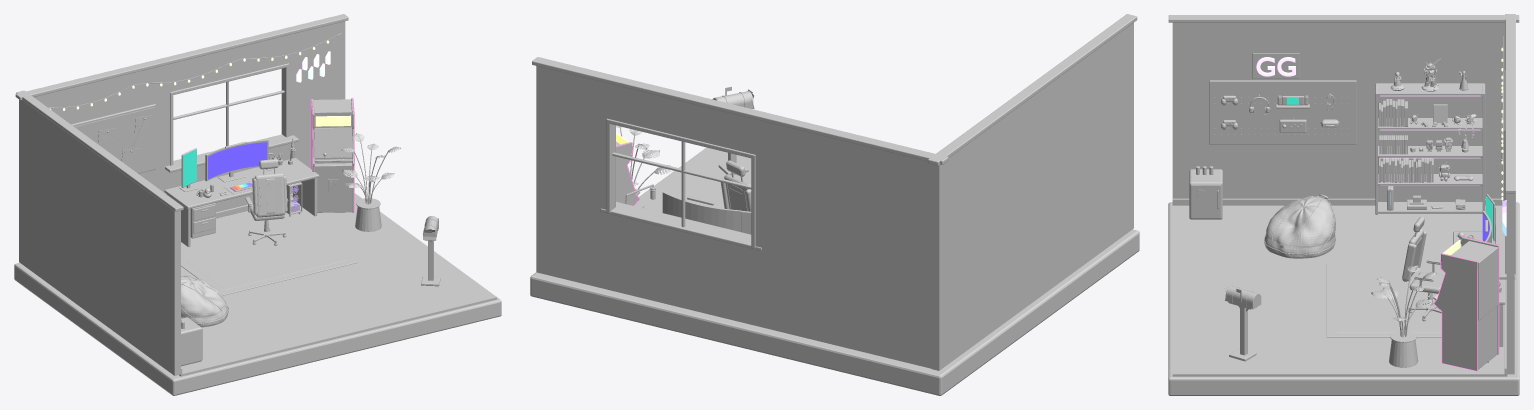
Rendered from room.glb.
3 renders of one model, left to right at view 1: azimuth 30°, elevation 25°; view 2: azimuth 150°, elevation 25°; view 3: azimuth 270°, elevation 25°, orthographic. The views are drawn at different scales.
Parts seen in each view (by area): view 1: Room_Static, Hot_Arcade, Hot_Corkboard, Hot_Chair, Screen, Hot_Monitor, Hot_Fridge, Hot_Mailbox, Screen2; view 2: Room_Static, Hot_Monitor, Hot_Chair, Hot_Arcade, Hot_Mailbox; view 3: Room_Static, Hot_Shelf, Hot_Pegboard, Hot_Arcade, Hot_Fridge, Hot_Chair, Hot_Mailbox, Neon_Sign, Hot_Corkboard, Arcade_GlowTrimR.
Boxes of the visible parts, left/top/right/bottom form: Room_Static: left=14, top=14, right=501, bottom=395; Hot_Arcade: left=311, top=98, right=354, bottom=212; Hot_Corkboard: left=71, top=104, right=155, bottom=173; Hot_Chair: left=245, top=159, right=288, bottom=245; Screen: left=208, top=142, right=267, bottom=179; Hot_Monitor: left=179, top=139, right=268, bottom=194; Hot_Fridge: left=181, top=317, right=202, bottom=366; Hot_Mailbox: left=421, top=216, right=440, bottom=286; Screen2: left=183, top=149, right=196, bottom=186; Room_Static: left=530, top=14, right=1139, bottom=395; Hot_Monitor: left=662, top=191, right=751, bottom=234; Hot_Chair: left=720, top=160, right=751, bottom=211; Hot_Arcade: left=616, top=141, right=640, bottom=205; Hot_Mailbox: left=712, top=86, right=754, bottom=175; Room_Static: left=1168, top=14, right=1519, bottom=395; Hot_Shelf: left=1375, top=58, right=1485, bottom=214; Hot_Pegboard: left=1209, top=80, right=1356, bottom=144; Hot_Arcade: left=1433, top=237, right=1498, bottom=370; Hot_Fridge: left=1189, top=166, right=1222, bottom=219; Hot_Chair: left=1402, top=216, right=1444, bottom=321; Hot_Mailbox: left=1225, top=285, right=1261, bottom=361; Neon_Sign: left=1256, top=57, right=1295, bottom=76; Hot_Corkboard: left=1500, top=70, right=1505, bottom=200; Arcade_GlowTrimR: left=1433, top=253, right=1477, bottom=371.
Size of the model in its own units: 6.25 by 3.4 by 5.25.
